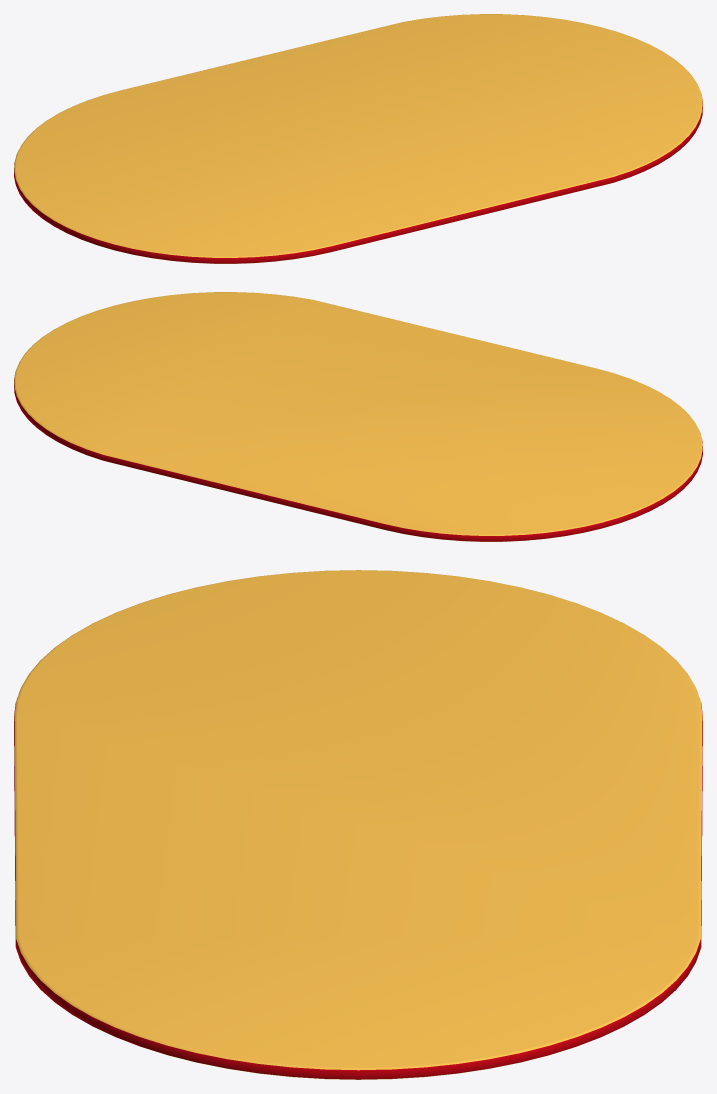
Rendered from SM_Building_Ceiling_4.fbx.
3 renders of one model, top to bottom at view 1: azimuth 30°, elevation 25°; view 2: azimuth 150°, elevation 25°; view 3: azimuth 270°, elevation 25°, orthographic. The views are drawn at different scales.
Visible parts, largest first — view 1: SM_Building_Ceiling_4; view 2: SM_Building_Ceiling_4; view 3: SM_Building_Ceiling_4.
Boxes of the visible parts, bbox=[...] form: SM_Building_Ceiling_4: bbox=[14, 14, 702, 263]; SM_Building_Ceiling_4: bbox=[14, 292, 702, 541]; SM_Building_Ceiling_4: bbox=[14, 570, 702, 1079].
Bounding box in the file's own units: 13.74 × 0.15 × 8.
